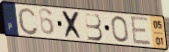6: (39, 7, 56, 39)
B: (83, 12, 104, 42)
C: (16, 6, 39, 37)
E: (129, 15, 153, 47)
O: (110, 15, 130, 44)
X: (61, 10, 85, 41)
